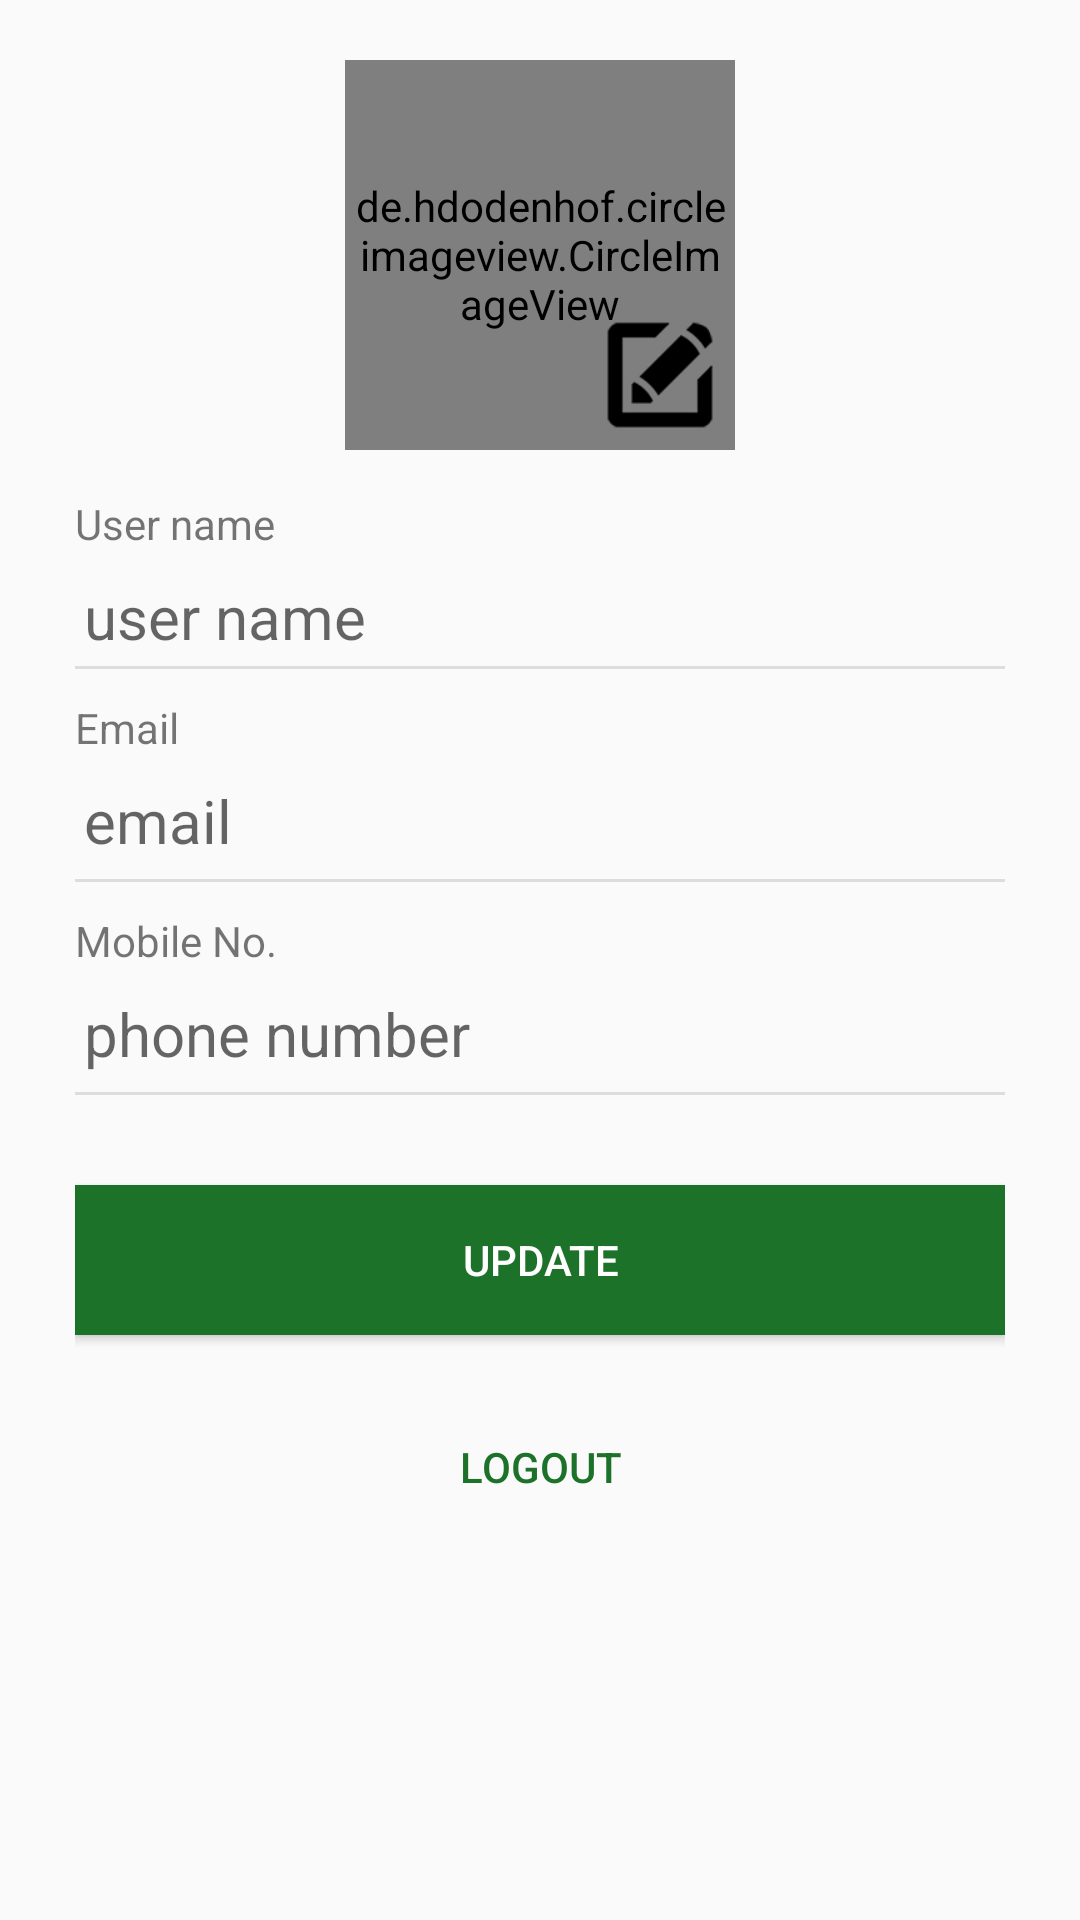

Named icons in this screenshot (1080 × 1920) and their bounding boxes, (x1, y1, x2, y2):
write: (589, 300, 713, 428)
